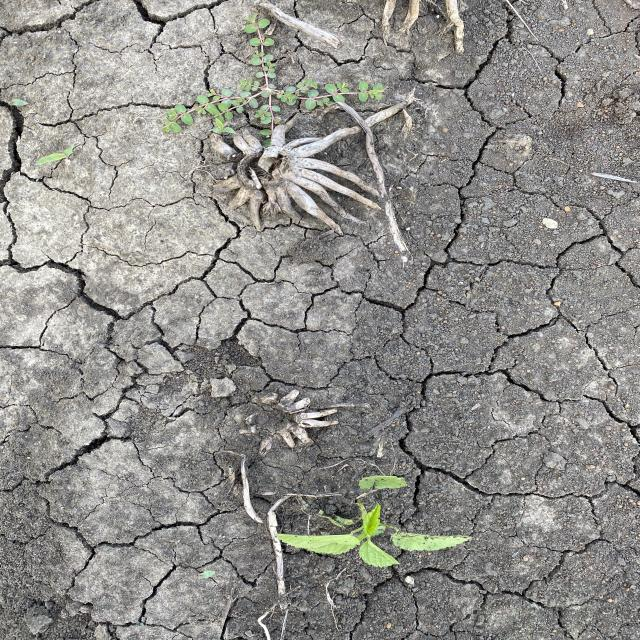PricklySida: (271, 474, 475, 570)
SpottedSpurge: (158, 13, 390, 140)
